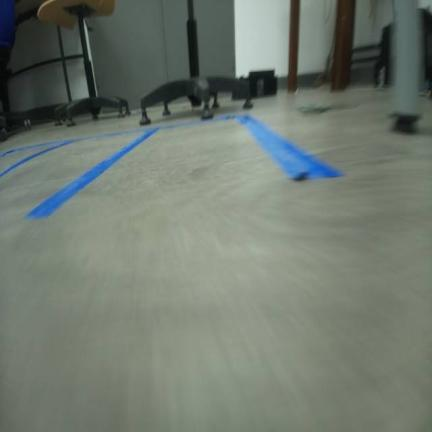place: (23, 112, 347, 219), (0, 125, 162, 221), (0, 136, 80, 177)
